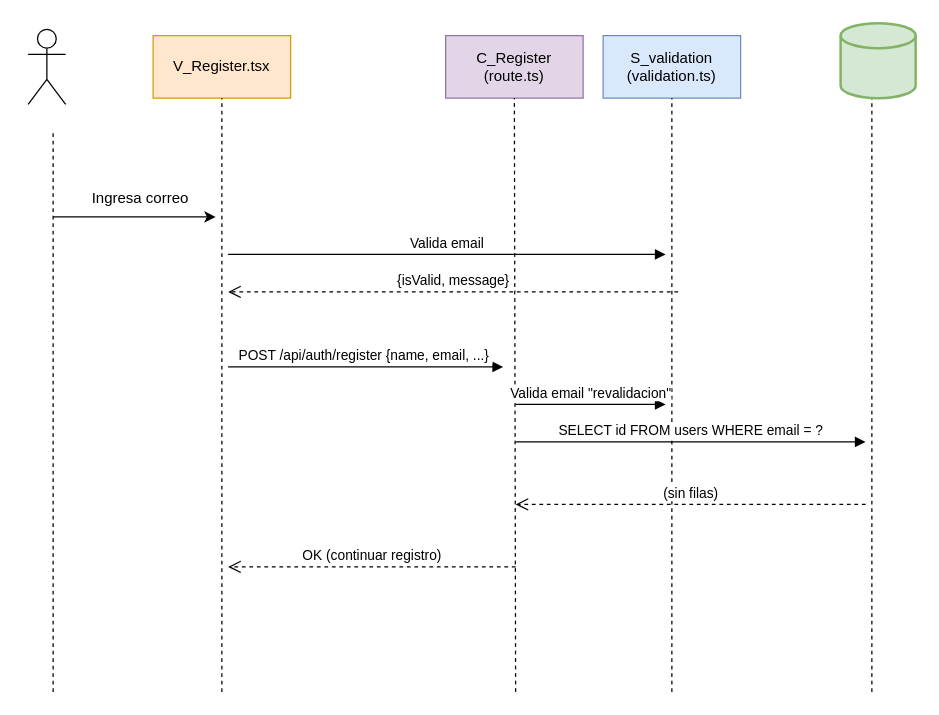
The diagram is 939 pixels wide and 715 high, and some of its shapes have lost their labels. Each missing label, with the centre of its shape:
"users" goes at (x=877, y=60).
"Usuario" goes at (x=46, y=66).
